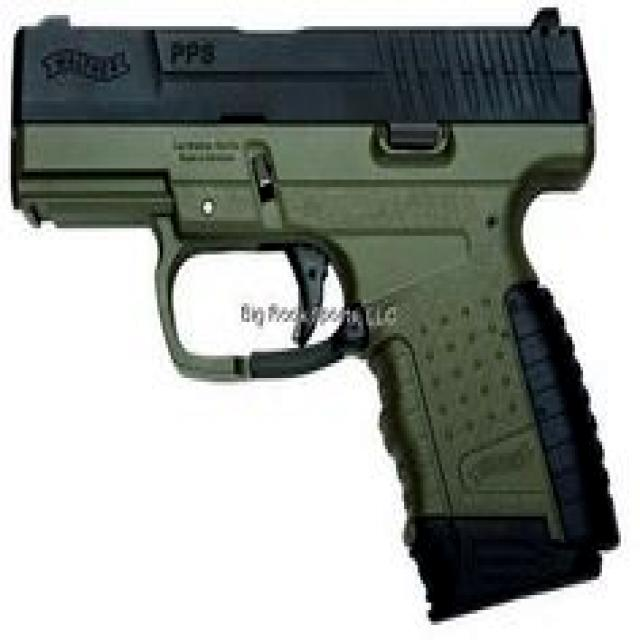semi automatic: (7, 8, 625, 621)
